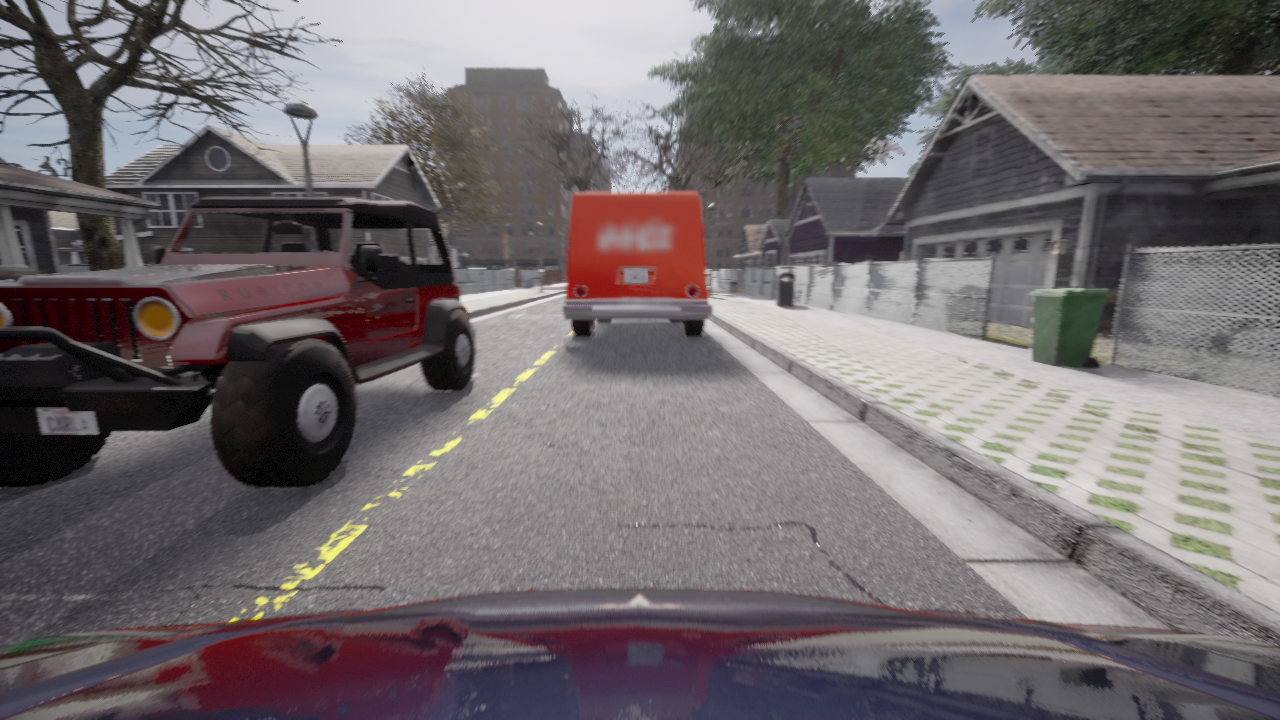cyclist: (0, 588, 1279, 719), (0, 197, 475, 487), (564, 192, 712, 336)
